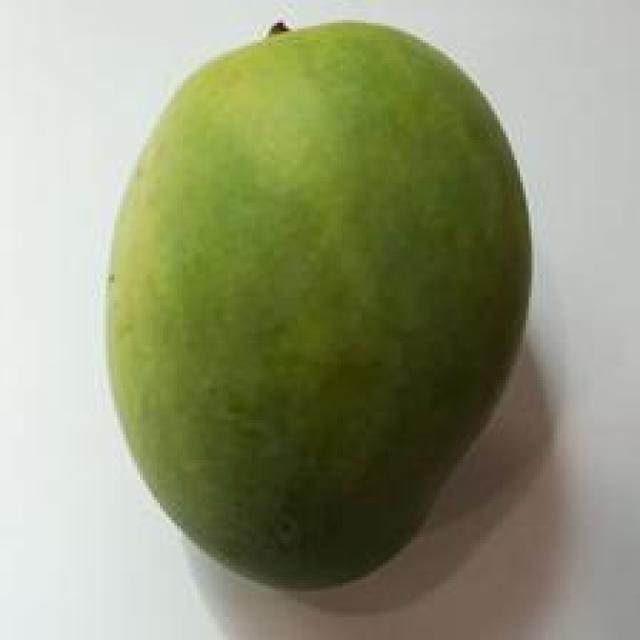Good_Mango: (100, 20, 534, 603)
